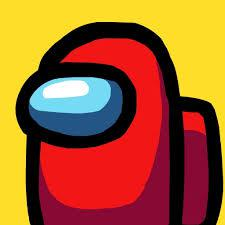amongus: (19, 23, 222, 222)
